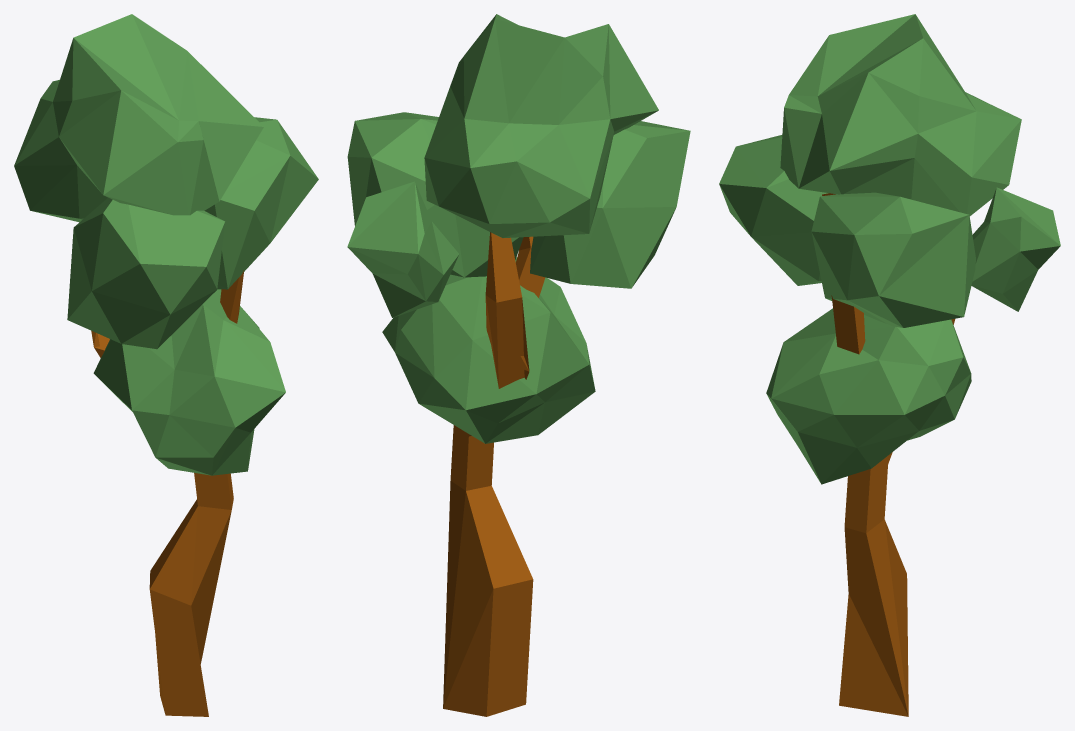
File: shu2.FBX
The picture shows the model from 3 angles, left to right: view 1: azimuth 30°, elevation 25°; view 2: azimuth 150°, elevation 25°; view 3: azimuth 270°, elevation 25°; orthographic projection. The views are drawn at different scales.
Visible parts, largest first — view 1: Group001, Line002; view 2: Group001, Line002; view 3: Group001, Line002.
Boxes of the visible parts, x1,y1,x2,y2 form: Group001: [14, 14, 318, 475]; Line002: [91, 270, 243, 716]; Group001: [347, 14, 690, 443]; Line002: [443, 232, 545, 716]; Group001: [719, 14, 1060, 484]; Line002: [822, 193, 955, 716].
Size of the model in its own units: 174 by 416 by 198.
